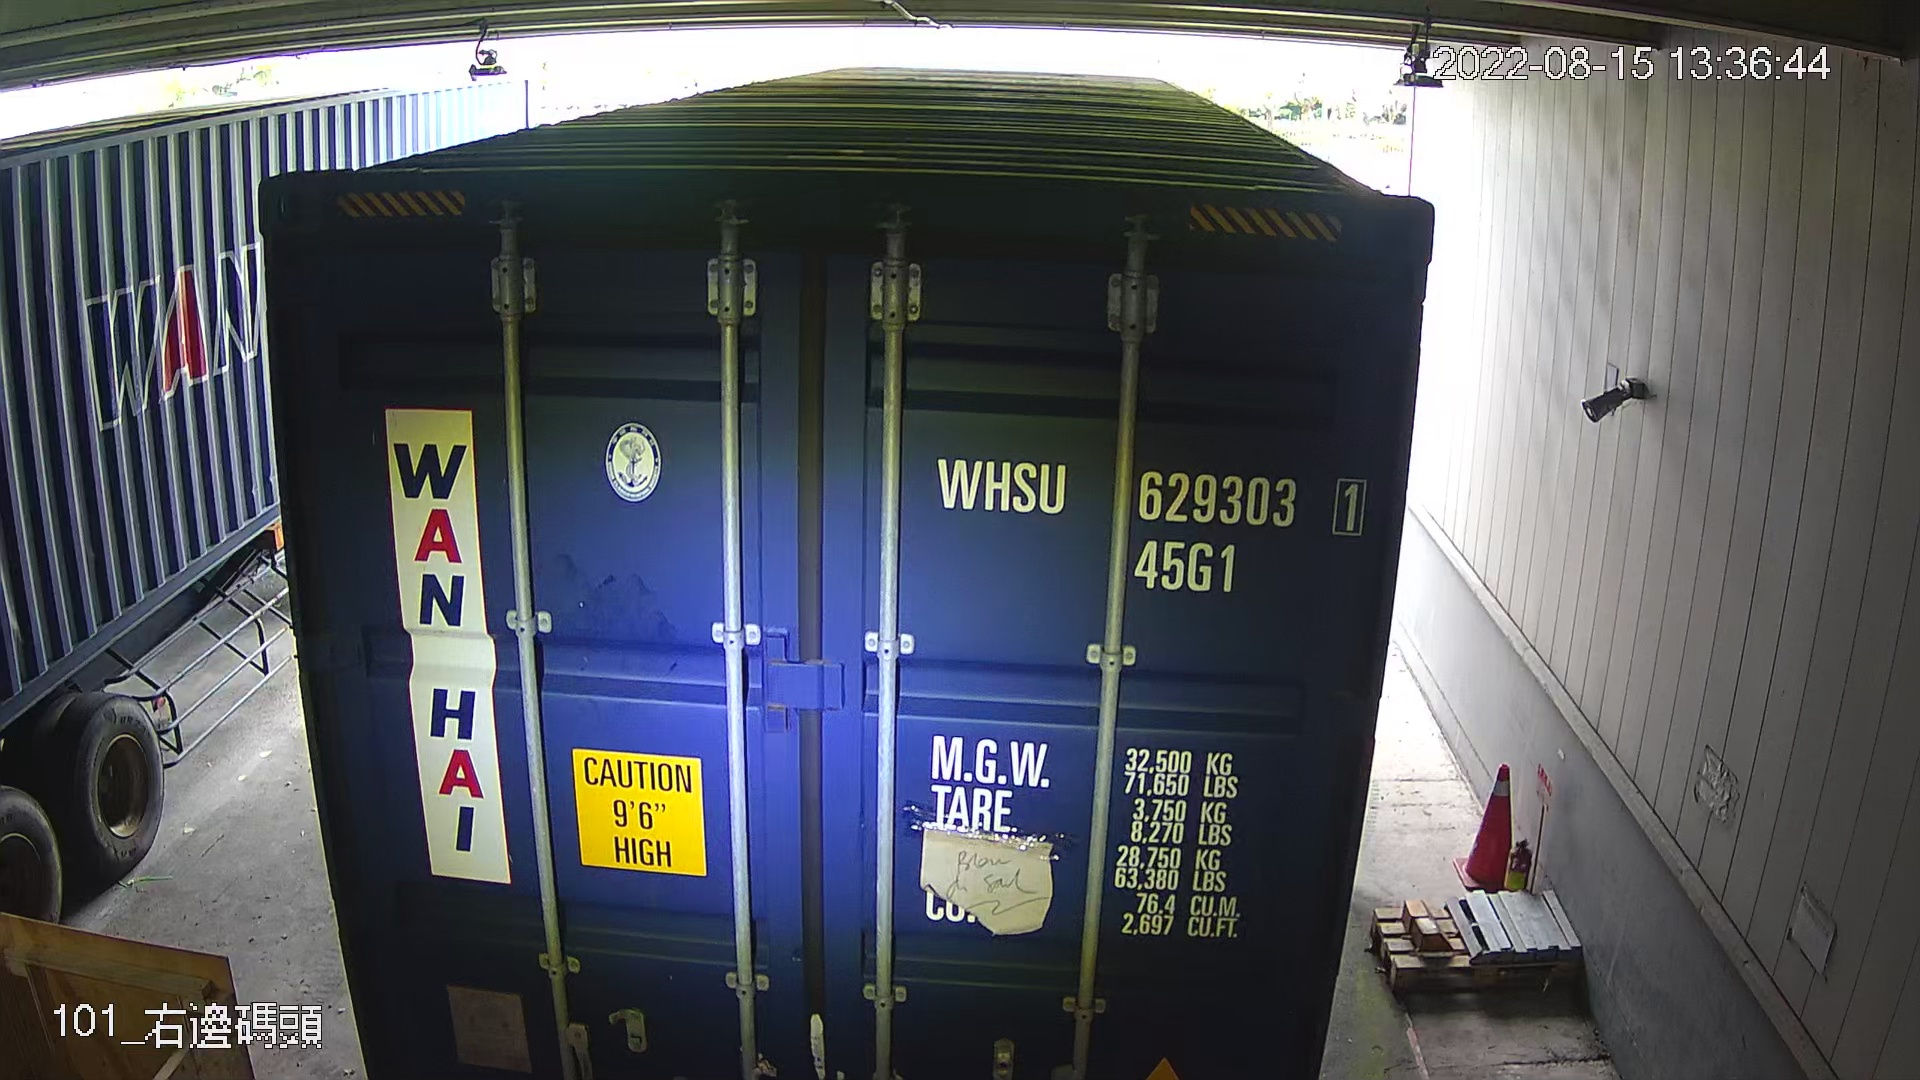container: (914, 435, 1378, 608)
